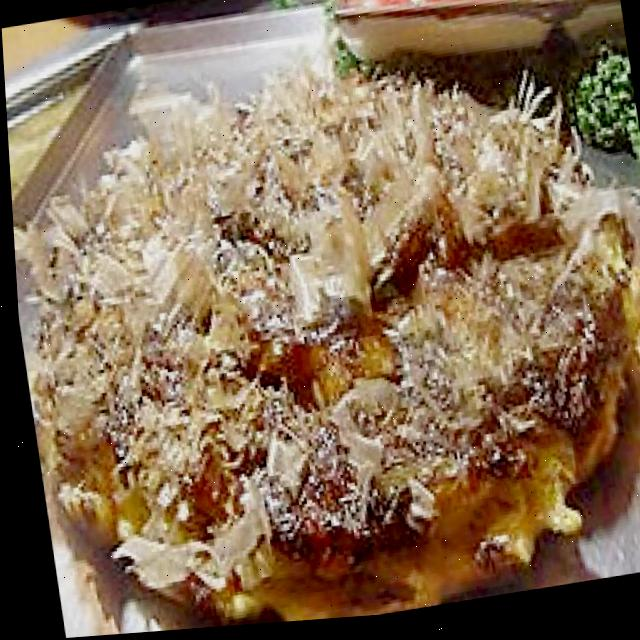蛋糕甜品: (3, 35, 640, 640)
